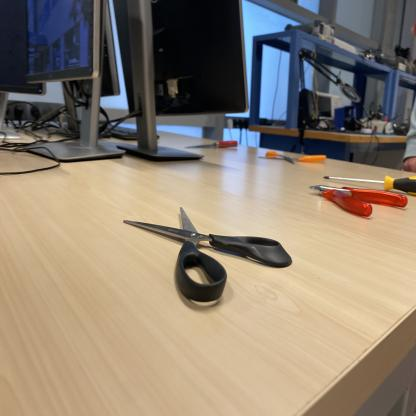scissors: (123, 207, 292, 304), (258, 151, 326, 165)
